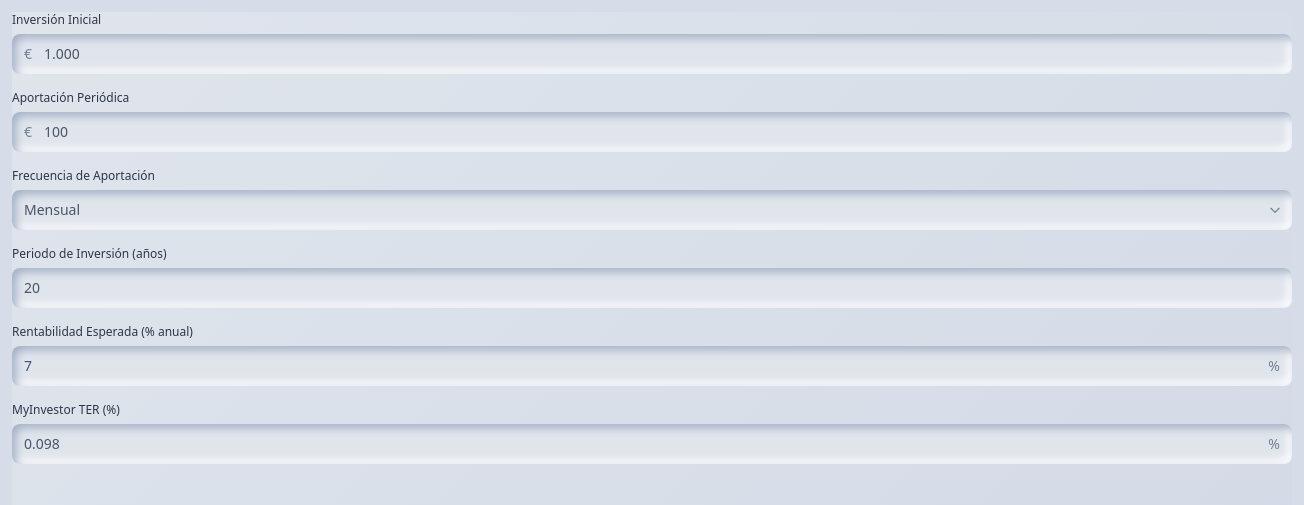
Scenario: SimulatorForm numeric input validation › should show error when investment years is less than 1
Replace the text in the number field labelled "Periodo de Inversión (años)" with "0". click: x=652, y=288
box: [12,268,1292,308]
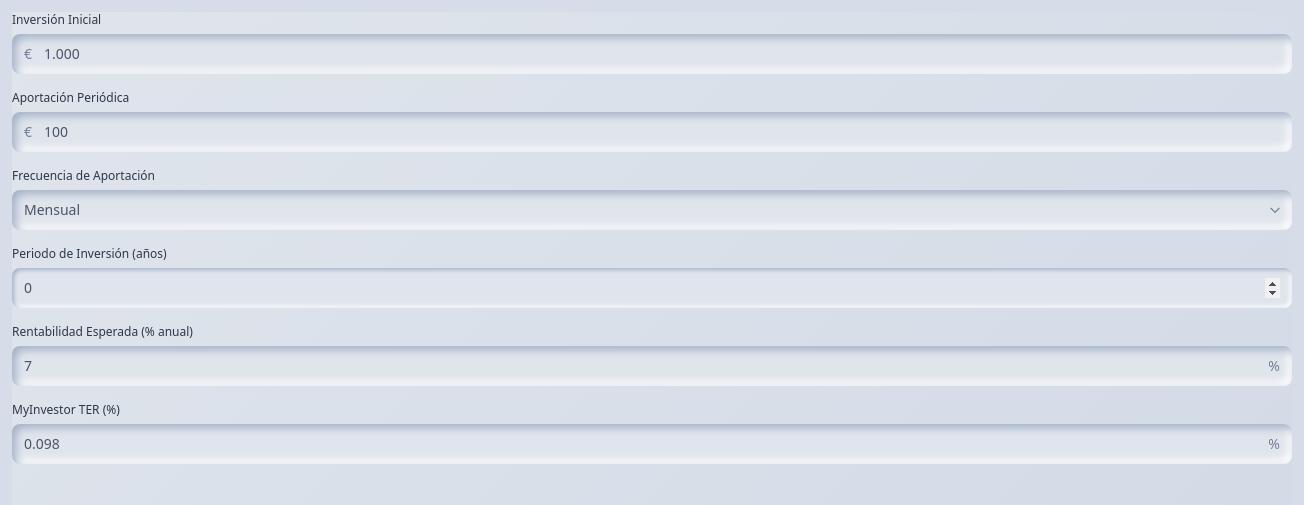
Press Tab
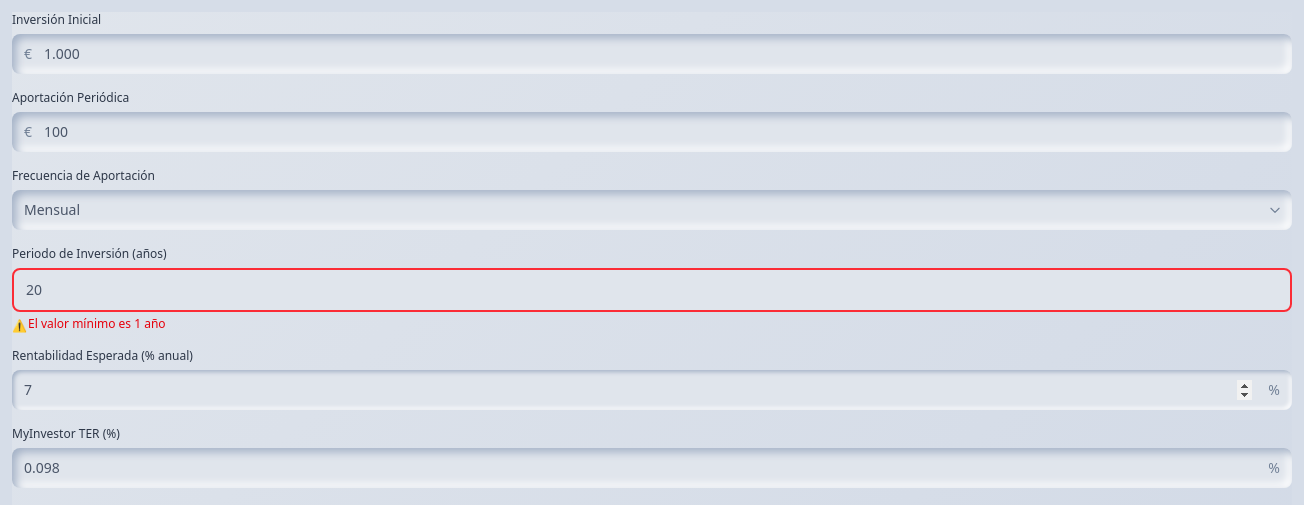
Result: the text "⚠ El valor mínimo es 1 año" is shown at [12,315,166,334]
